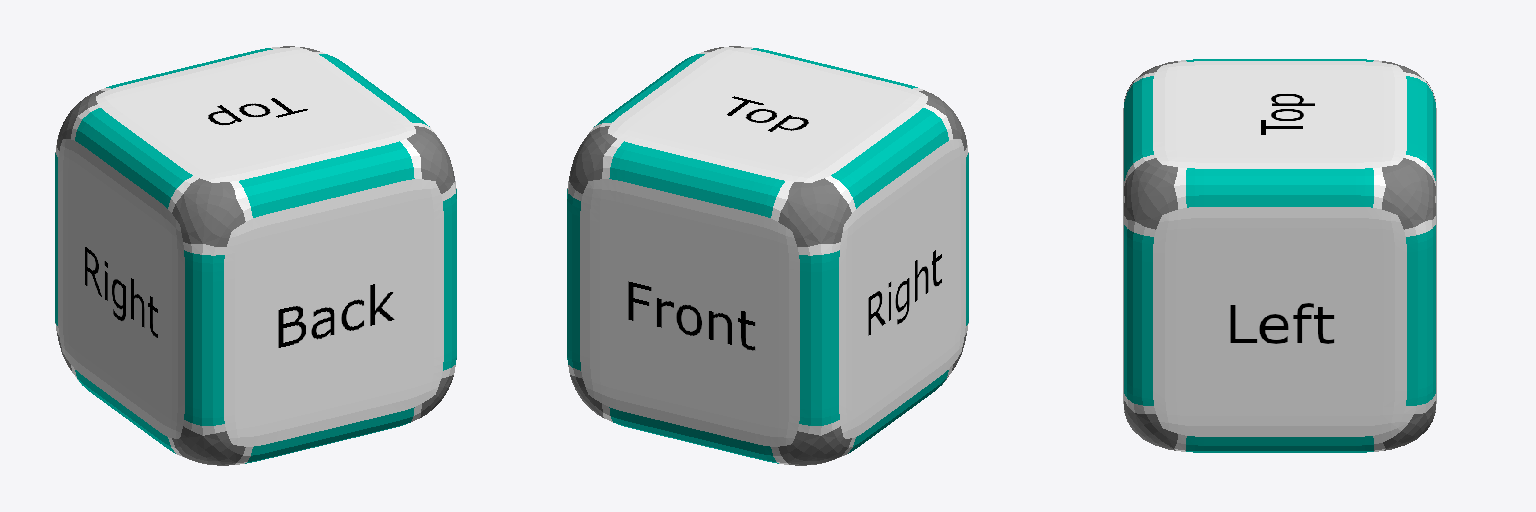
3 views of the same model, side by side, from view 1: azimuth 30°, elevation 25°; view 2: azimuth 150°, elevation 25°; view 3: azimuth 270°, elevation 25° (orthographic).
Parts seen in each view (by area): view 1: Back, Right, Top, Space, Edge2, Edge11, Edge1, Corner1, Edge8, Edge3, Corner4, Corner7 (+3 smaller); view 2: Front, Right, Top, Space, Edge5, Edge10, Edge1, Corner8, Edge12, Edge4, Corner5, Corner6 (+3 smaller); view 3: Left, Top, Space, Edge9, Edge3, Edge4, Edge7, Corner6, Corner7, Edge10, Edge11, Corner3 (+1 smaller).
Boxes of the visible parts, x1=… form: Back: x1=235, y1=189, x2=433, y2=437; Right: x1=63, y1=148, x2=177, y2=429; Top: x1=105, y1=50, x2=406, y2=177; Space: x1=55, y1=47, x2=456, y2=464; Edge2: x1=184, y1=250, x2=224, y2=425; Edge11: x1=239, y1=141, x2=414, y2=217; Edge1: x1=75, y1=108, x2=192, y2=208; Corner1: x1=172, y1=178, x2=245, y2=246; Edge8: x1=245, y1=407, x2=414, y2=463; Edge3: x1=443, y1=189, x2=456, y2=370; Corner4: x1=172, y1=426, x2=245, y2=465; Corner7: x1=407, y1=126, x2=454, y2=193; Front: x1=590, y1=189, x2=788, y2=437; Right: x1=846, y1=148, x2=960, y2=429; Top: x1=617, y1=50, x2=918, y2=177; Space: x1=567, y1=47, x2=968, y2=464; Edge5: x1=799, y1=250, x2=839, y2=425; Edge10: x1=609, y1=141, x2=784, y2=217; Edge1: x1=831, y1=108, x2=948, y2=208; Corner8: x1=778, y1=178, x2=851, y2=246; Edge12: x1=609, y1=407, x2=778, y2=463; Edge4: x1=567, y1=189, x2=580, y2=370; Corner5: x1=778, y1=426, x2=851, y2=465; Corner6: x1=569, y1=126, x2=616, y2=193; Left: x1=1165, y1=218, x2=1394, y2=425; Top: x1=1165, y1=65, x2=1394, y2=162; Space: x1=1123, y1=60, x2=1436, y2=451; Edge9: x1=1186, y1=168, x2=1373, y2=207; Edge3: x1=1124, y1=225, x2=1153, y2=405; Edge4: x1=1406, y1=225, x2=1435, y2=405; Edge7: x1=1186, y1=436, x2=1373, y2=452; Corner6: x1=1382, y1=158, x2=1435, y2=229; Corner7: x1=1124, y1=158, x2=1177, y2=229; Edge10: x1=1406, y1=76, x2=1435, y2=180; Edge11: x1=1124, y1=76, x2=1153, y2=180; Corner3: x1=1124, y1=401, x2=1177, y2=450.
Size of the model in its own units: 2 by 2 by 2.
9 materials, 6 textured.